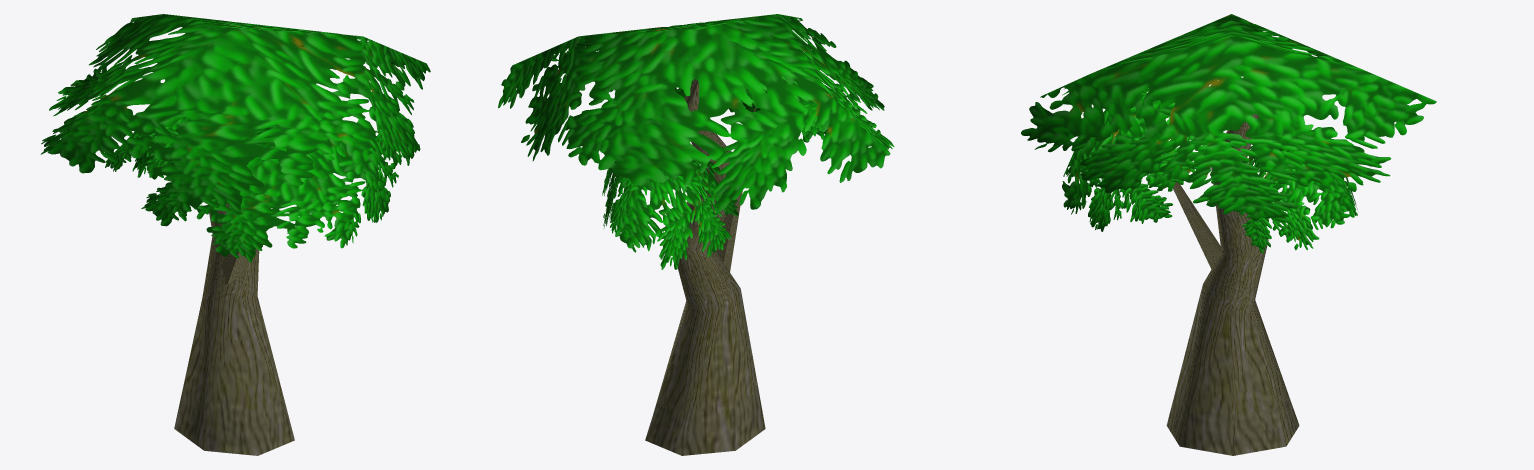
Rendered from cacaotree.obj.
The picture shows the model from 3 angles, left to right: view 1: azimuth 30°, elevation 25°; view 2: azimuth 150°, elevation 25°; view 3: azimuth 270°, elevation 25°; orthographic projection.
Visible parts, largest first — view 1: Sphere02, Cylinder02, Duplicate02, Duplicate03, Box01; view 2: Sphere02, Cylinder02, Duplicate03, Duplicate02, Box01; view 3: Sphere02, Cylinder02, Duplicate02, Duplicate03, Box01.
Boxes of the visible parts, bbox=[...] form: Sphere02: bbox=[40, 14, 430, 211]; Cylinder02: bbox=[174, 113, 294, 455]; Duplicate02: bbox=[141, 113, 420, 262]; Duplicate03: bbox=[105, 117, 187, 179]; Box01: bbox=[221, 193, 263, 284]; Sphere02: bbox=[498, 14, 894, 212]; Cylinder02: bbox=[645, 79, 765, 455]; Duplicate03: bbox=[602, 154, 738, 269]; Duplicate02: bbox=[609, 70, 870, 155]; Box01: bbox=[716, 106, 755, 271]; Sphere02: bbox=[1021, 14, 1436, 222]; Cylinder02: bbox=[1166, 114, 1299, 455]; Duplicate02: bbox=[1062, 88, 1197, 231]; Duplicate03: bbox=[1233, 139, 1357, 253]; Box01: bbox=[1173, 182, 1221, 270].
Size of the model in its own units: 62.77 by 54.47 by 71.21.
